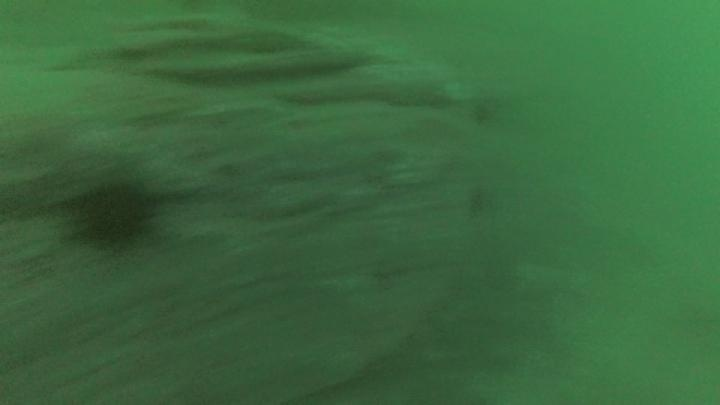echinus: (70, 176, 159, 254)
